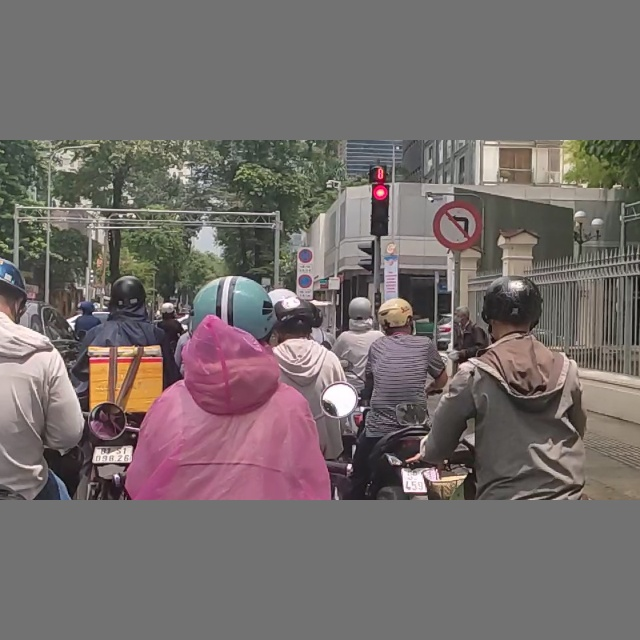P.123a: (433, 201, 482, 251)
P.130: (299, 247, 314, 263)
P.131a: (298, 273, 313, 289)
